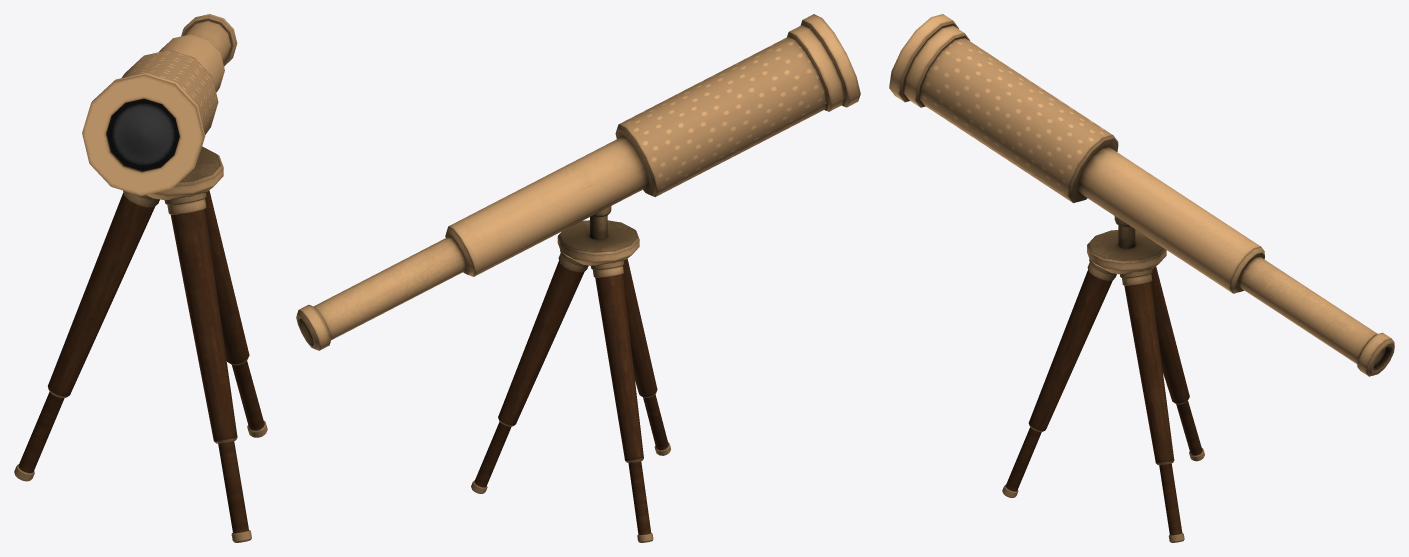
Rendered from Telescope.glb.
3 views of the same model, side by side, from view 1: azimuth 30°, elevation 25°; view 2: azimuth 150°, elevation 25°; view 3: azimuth 270°, elevation 25° (orthographic). The views are drawn at different scales.
Parts seen in each view (by area): view 1: Object_27.113, Object_27.142, Object_27.046, Object_27.036, Object_27.084, Object_27.108, Object_27.031, Object_27.137, Object_27.014, Object_27.019, Object_27.020, Object_27.079 (+11 smaller); view 2: Object_27.036, Object_27.035, Object_27.031, Object_27.030, Object_27.142, Object_27.084, Object_27.001, Object_27, Object_27.113, Object_27.076, Object_27.137, Object_27.079 (+4 smaller); view 3: Object_27.036, Object_27.031, Object_27.001, Object_27.084, Object_27.113, Object_27.142, Object_27.076, Object_27.040, Object_27.045, Object_27.079, Object_27.108, Object_27.137 (+2 smaller).
Boxes of the visible parts, <box> form: Object_27.113: <box>170,209,237,441</box>; Object_27.142: <box>48,193,155,396</box>; Object_27.046: <box>107,98,179,171</box>; Object_27.036: <box>121,50,218,134</box>; Object_27.084: <box>205,190,249,364</box>; Object_27.108: <box>218,441,248,533</box>; Object_27.031: <box>159,34,224,92</box>; Object_27.137: <box>18,392,64,472</box>; Object_27.014: <box>111,166,171,195</box>; Object_27.019: <box>114,74,174,103</box>; Object_27.020: <box>162,84,203,137</box>; Object_27.079: <box>232,361,264,430</box>; Object_27.036: <box>619,36,815,157</box>; Object_27.035: <box>646,70,827,196</box>; Object_27.031: <box>448,137,640,249</box>; Object_27.030: <box>467,160,648,276</box>; Object_27.142: <box>595,274,643,460</box>; Object_27.084: <box>498,260,584,425</box>; Object_27.001: <box>313,236,461,322</box>; Object_27: <box>325,252,466,339</box>; Object_27.113: <box>622,259,657,397</box>; Object_27.076: <box>560,220,637,252</box>; Object_27.137: <box>628,461,651,534</box>; Object_27.079: <box>474,422,511,487</box>; Object_27.036: <box>919,37,1112,196</box>; Object_27.031: <box>1078,147,1260,288</box>; Object_27.001: <box>1239,256,1377,362</box>; Object_27.084: <box>1124,282,1174,463</box>; Object_27.113: <box>1028,269,1112,431</box>; Object_27.142: <box>1151,266,1189,403</box>; Object_27.076: <box>1089,230,1162,260</box>; Object_27.040: <box>903,25,964,100</box>; Object_27.045: <box>889,14,952,94</box>; Object_27.079: <box>1159,463,1182,535</box>; Object_27.108: <box>1005,427,1041,491</box>; Object_27.137: <box>1176,401,1202,455</box>.
Size of the model in its own units: 3.27 by 3.98 by 4.31.
Materials: 1 (1 with a texture image).
